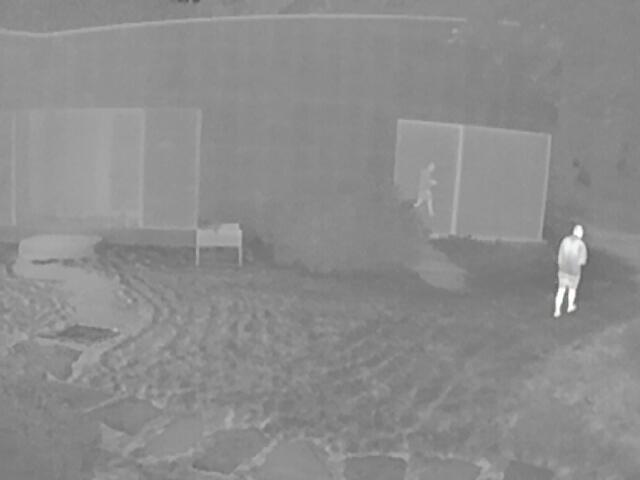person: (554, 224, 586, 319), (412, 162, 440, 226)
